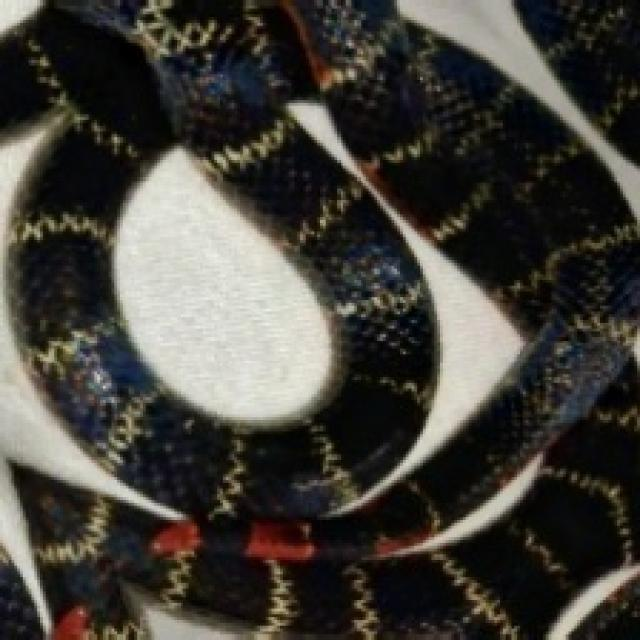barredcoral snake: (0, 0, 637, 637), (517, 0, 637, 160), (570, 579, 640, 639), (0, 561, 42, 639)
